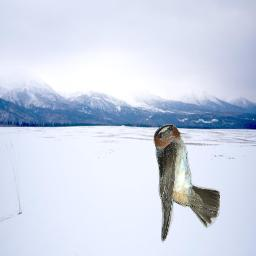Swallow: (153, 124, 220, 243)
